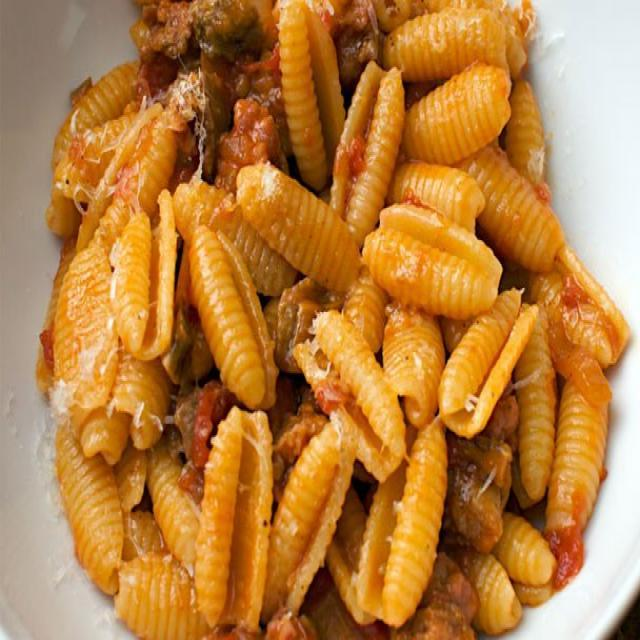Pasta al ragu: (49, 11, 619, 611)
